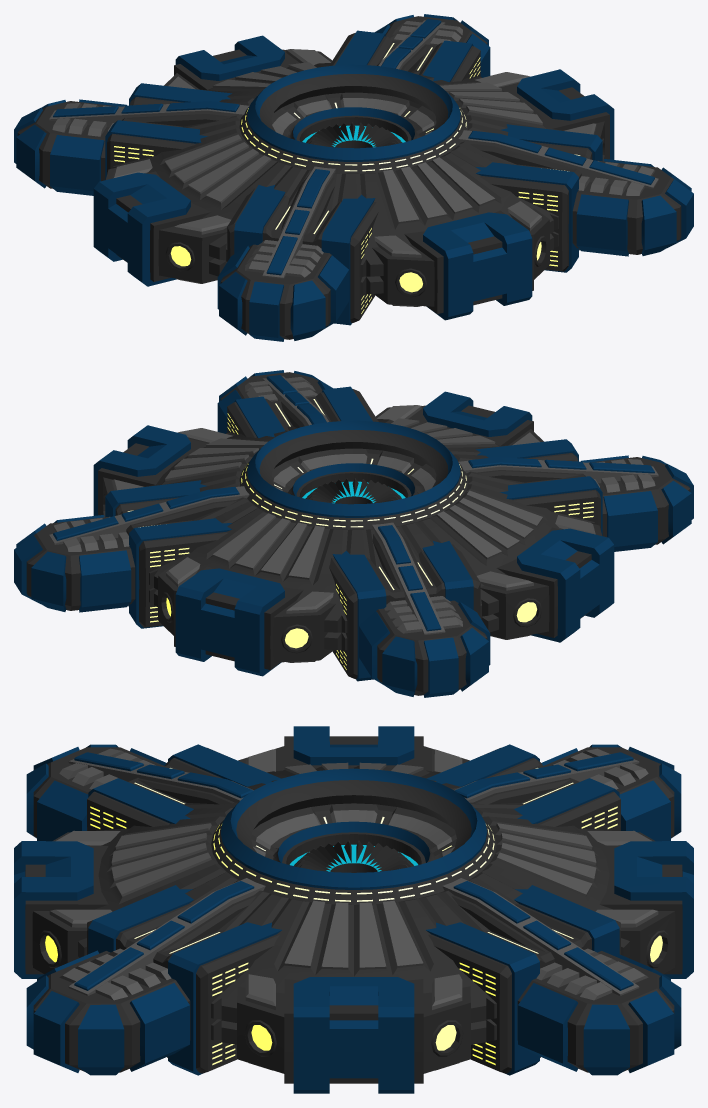
Rendered from 01_platform_3x3_k35.glb.
The picture shows the model from 3 angles, top to bottom: view 1: azimuth 30°, elevation 25°; view 2: azimuth 150°, elevation 25°; view 3: azimuth 270°, elevation 25°; orthographic projection. The views are drawn at different scales.
Visible parts, largest first — view 1: 01_platform_3x3_light, 01_platform_3x3_light_piece_core, 01_platform_3x3_light_piece_a, 01_platform_3x3_light_piece_corner, 01_platform_3x3_light_cor; view 2: 01_platform_3x3_light, 01_platform_3x3_light_piece_core, 01_platform_3x3_light_piece_corner, 01_platform_3x3_light_piece_a, 01_platform_3x3_light_cor; view 3: 01_platform_3x3_light, 01_platform_3x3_light_piece_core, 01_platform_3x3_light_piece_a, 01_platform_3x3_light_piece_corner, 01_platform_3x3_light_cor.
Part boxes in pixels (x1=…): 01_platform_3x3_light: x1=14, y1=14, x2=693, y2=341; 01_platform_3x3_light_piece_core: x1=113, y1=64, x2=557, y2=293; 01_platform_3x3_light_piece_a: x1=99, y1=37, x2=609, y2=315; 01_platform_3x3_light_piece_corner: x1=17, y1=18, x2=681, y2=339; 01_platform_3x3_light_cor: x1=302, y1=122, x2=405, y2=148; 01_platform_3x3_light: x1=14, y1=370, x2=693, y2=697; 01_platform_3x3_light_piece_core: x1=150, y1=418, x2=594, y2=649; 01_platform_3x3_light_piece_corner: x1=26, y1=372, x2=690, y2=695; 01_platform_3x3_light_piece_a: x1=93, y1=391, x2=607, y2=675; 01_platform_3x3_light_cor: x1=302, y1=478, x2=405, y2=504; 01_platform_3x3_light: x1=14, y1=726, x2=693, y2=1093; 01_platform_3x3_light_piece_core: x1=84, y1=763, x2=623, y2=1044; 01_platform_3x3_light_piece_a: x1=14, y1=750, x2=693, y2=1089; 01_platform_3x3_light_piece_corner: x1=33, y1=747, x2=674, y2=1071; 01_platform_3x3_light_cor: x1=289, y1=840, x2=418, y2=872.
Size of the model in its own units: 1.02 by 0.2954 by 1.02.
